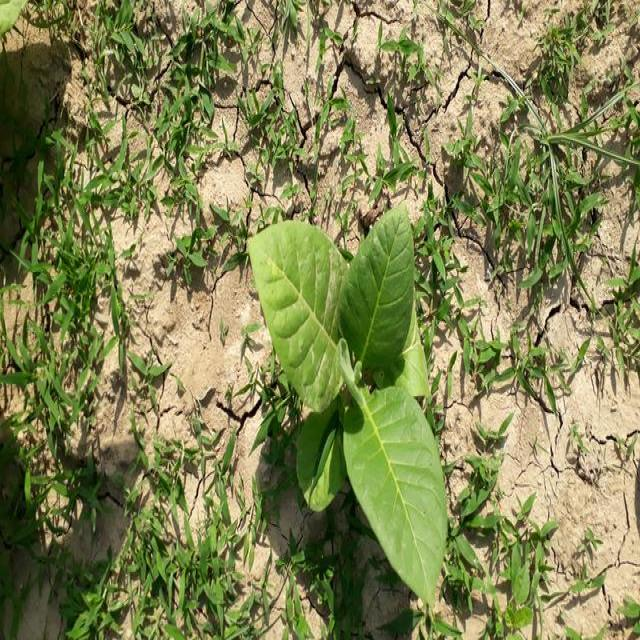crop: (254, 205, 462, 592)
